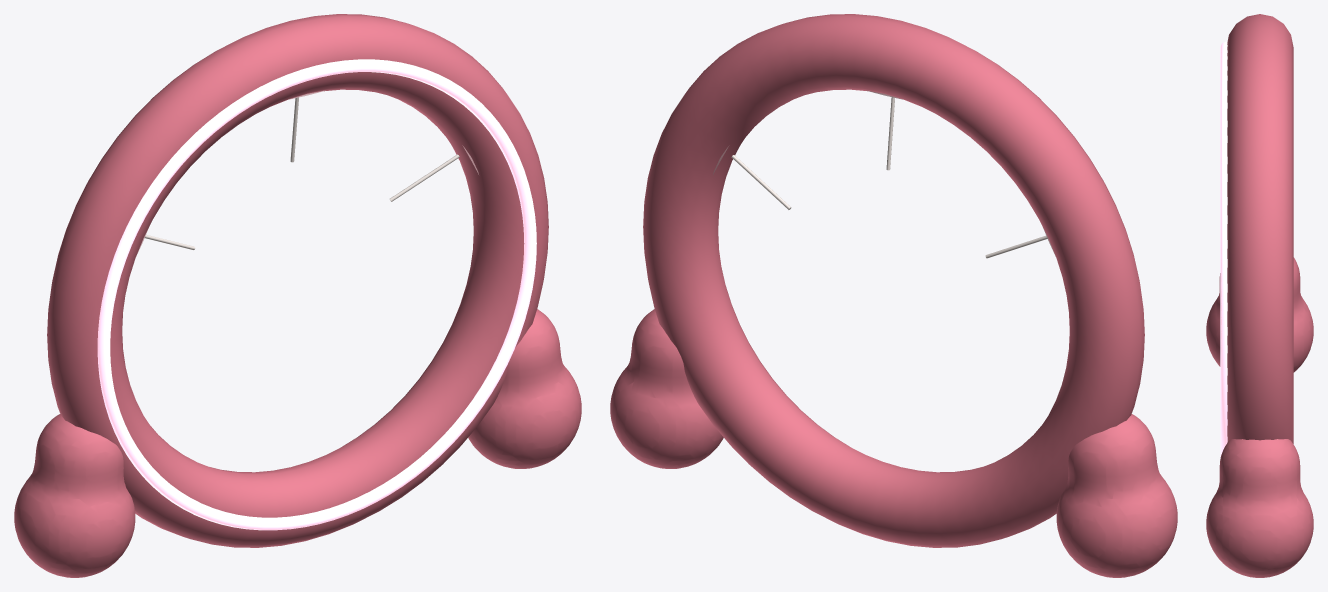
Rendered from E36_Heart_Valve_Gate.glb.
3 views of the same model, side by side, from view 1: azimuth 30°, elevation 25°; view 2: azimuth 150°, elevation 25°; view 3: azimuth 270°, elevation 25° (orthographic). The views are drawn at different scales.
Visible parts, largest first — view 1: E36_Heart_Valve_Gate_Mesh; view 2: E36_Heart_Valve_Gate_Mesh; view 3: E36_Heart_Valve_Gate_Mesh.
Boxes of the visible parts, bbox=[...] form: E36_Heart_Valve_Gate_Mesh: bbox=[14, 14, 581, 577]; E36_Heart_Valve_Gate_Mesh: bbox=[610, 14, 1177, 577]; E36_Heart_Valve_Gate_Mesh: bbox=[1206, 14, 1313, 577].
Bounding box in the file's own units: 16.79 × 15 × 3.19.
